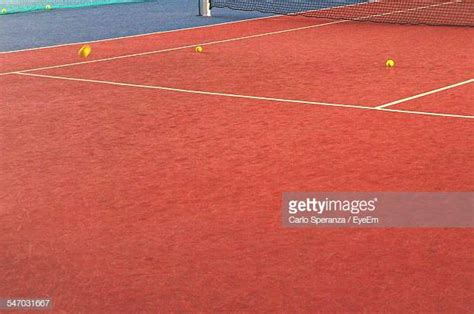tennis_ball: (78, 45, 91, 58), (385, 58, 395, 68), (195, 46, 203, 53), (1, 8, 7, 15), (45, 4, 51, 10)
